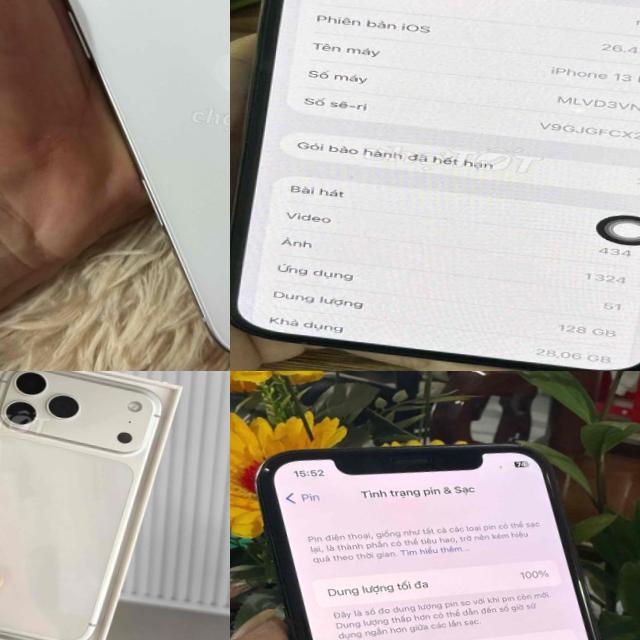gen_11: (256, 444, 601, 640)
gen_12_13: (230, 0, 640, 371)
gen_16: (0, 0, 230, 371)
gen_17: (0, 371, 172, 640)
